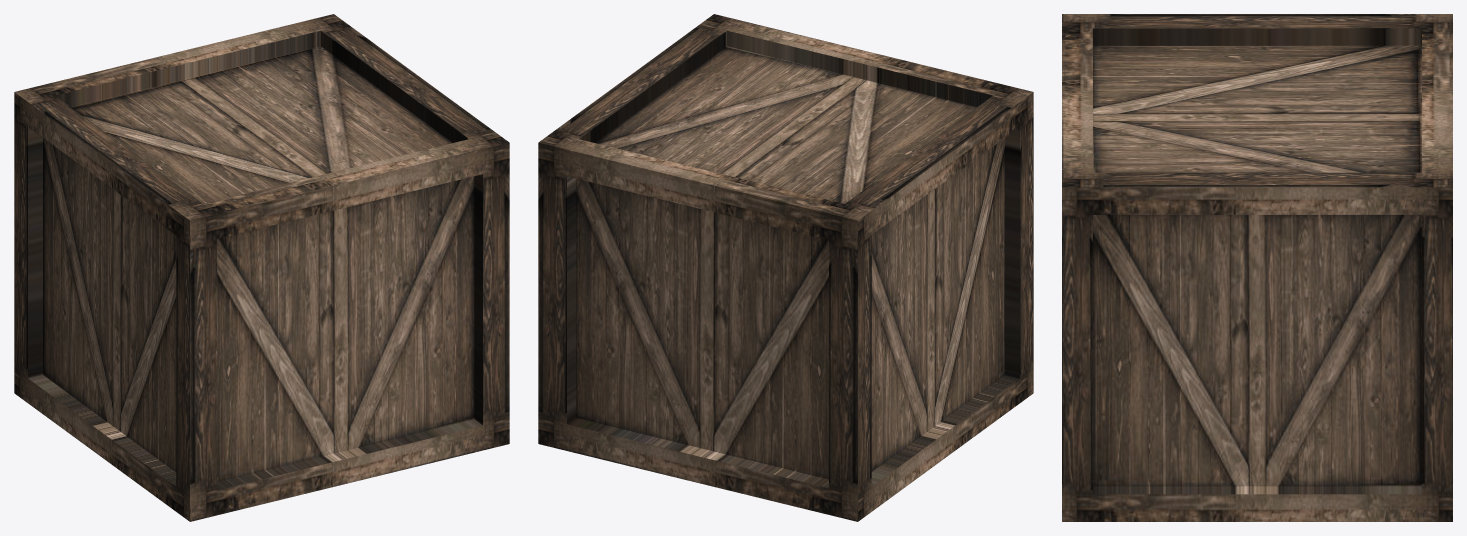
The picture shows the model from 3 angles, left to right: view 1: azimuth 30°, elevation 25°; view 2: azimuth 150°, elevation 25°; view 3: azimuth 270°, elevation 25°; orthographic projection. The views are drawn at different scales.
Parts seen in each view (by area): view 1: pCube504; view 2: pCube504; view 3: pCube504.
Part boxes in pixels (x1,y1,x2,y2): pCube504: (14, 14, 509, 521); pCube504: (538, 14, 1033, 521); pCube504: (1062, 14, 1452, 521).
Bounding box in the file's own units: 17.64 × 15.89 × 16.81.
